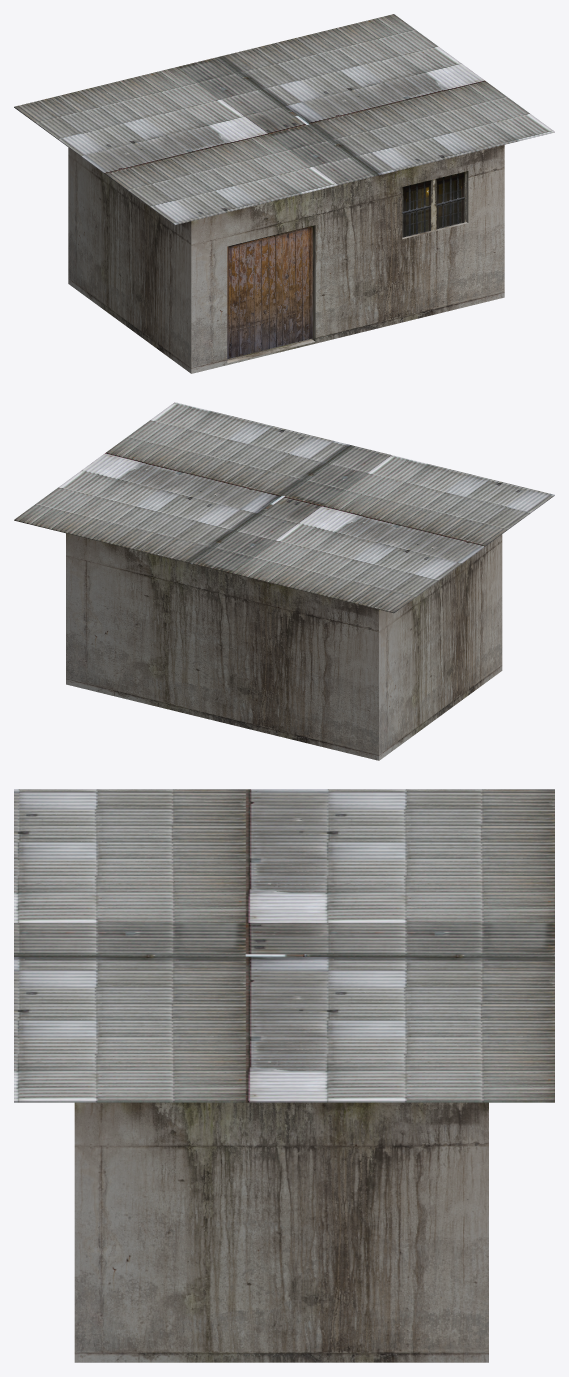
Rendered from 3rd_world_building_3.FBX.
3 renders of one model, top to bottom at view 1: azimuth 30°, elevation 25°; view 2: azimuth 150°, elevation 25°; view 3: azimuth 270°, elevation 25°, orthographic. The views are drawn at different scales.
Visible parts, largest first — view 1: Plane001, Box001, Plane002, Plane003; view 2: Box001, Plane001; view 3: Plane001, Box001.
Part boxes in pixels (<box>): Plane001: <box>14,14,554,224</box>; Box001: <box>68,145,504,373</box>; Plane002: <box>227,226,312,359</box>; Plane003: <box>402,171,466,237</box>; Box001: <box>66,533,502,760</box>; Plane001: <box>14,402,554,613</box>; Plane001: <box>14,789,554,1102</box>; Box001: <box>74,1102,488,1362</box>.
Size of the model in its own units: 100 by 43.04 by 73.37.
